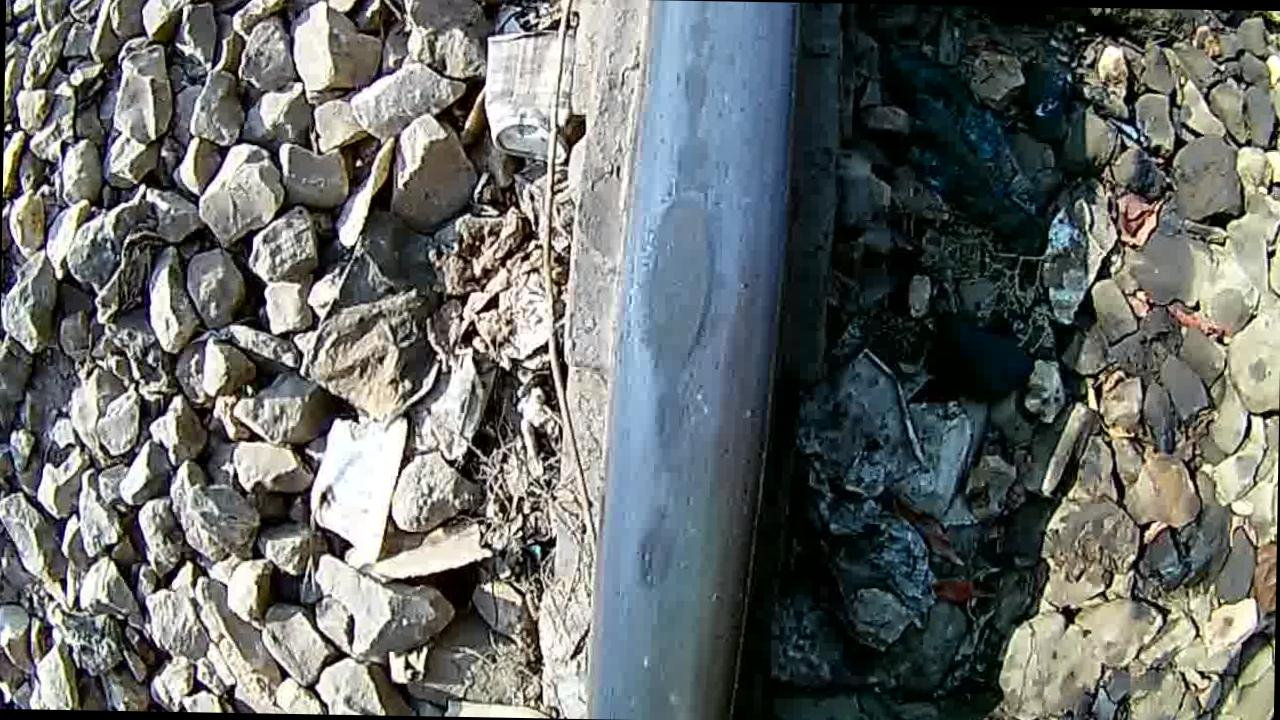bolt_missing: (596, 2, 790, 670)
